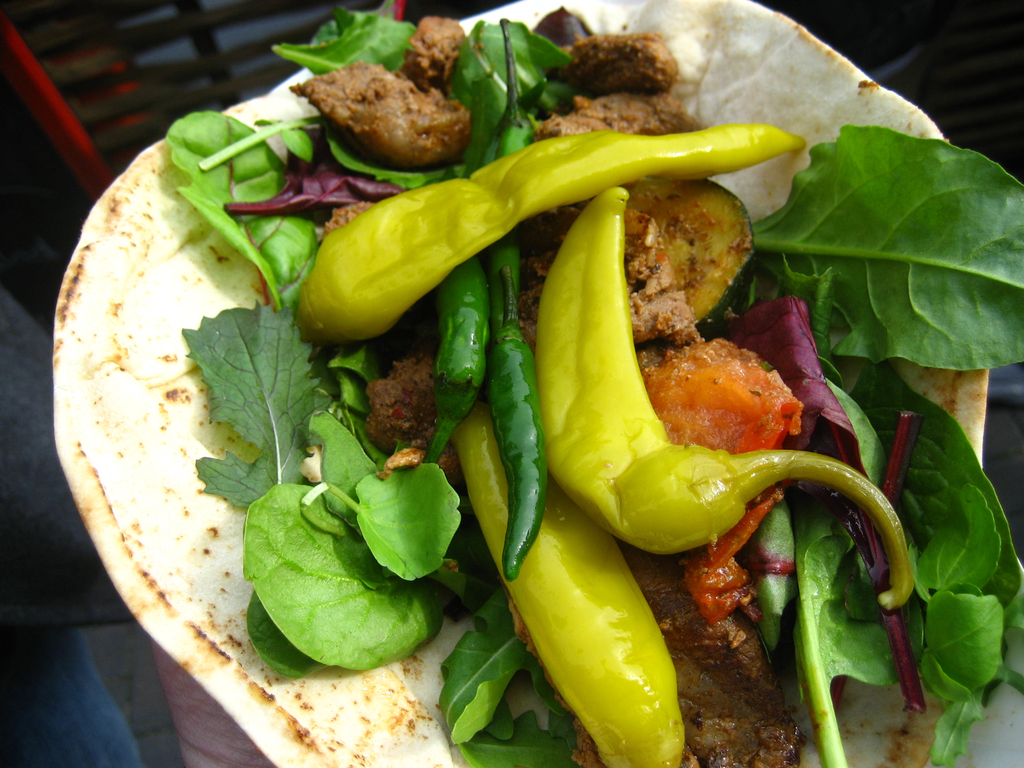taco: (51, 0, 991, 767)
